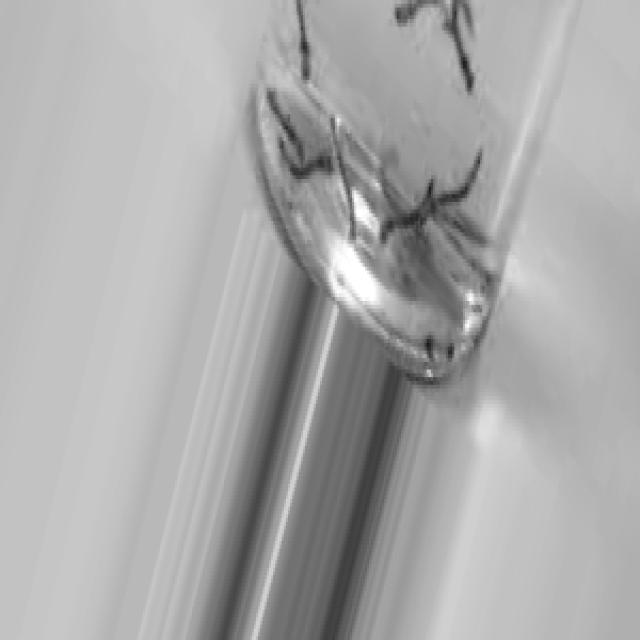larvas: (328, 111, 362, 249), (380, 181, 431, 245), (432, 148, 482, 212), (444, 2, 474, 91), (268, 88, 304, 160), (282, 154, 333, 178), (297, 2, 312, 80), (394, 2, 426, 27)
